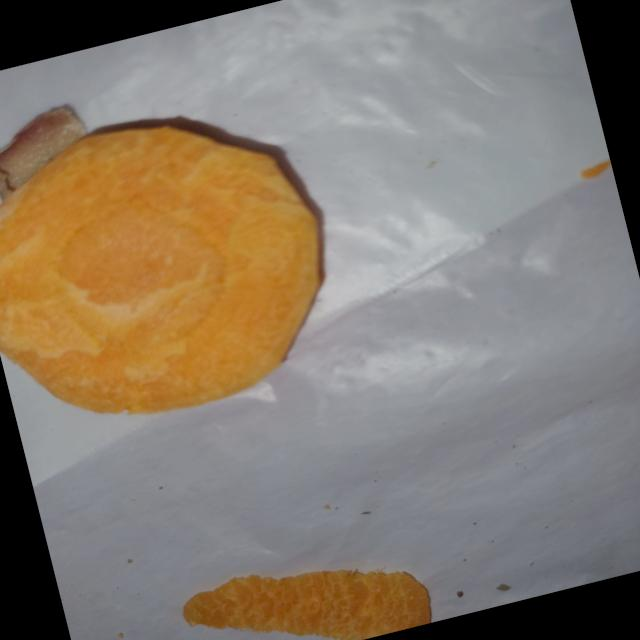organic: (0, 79, 358, 449)
